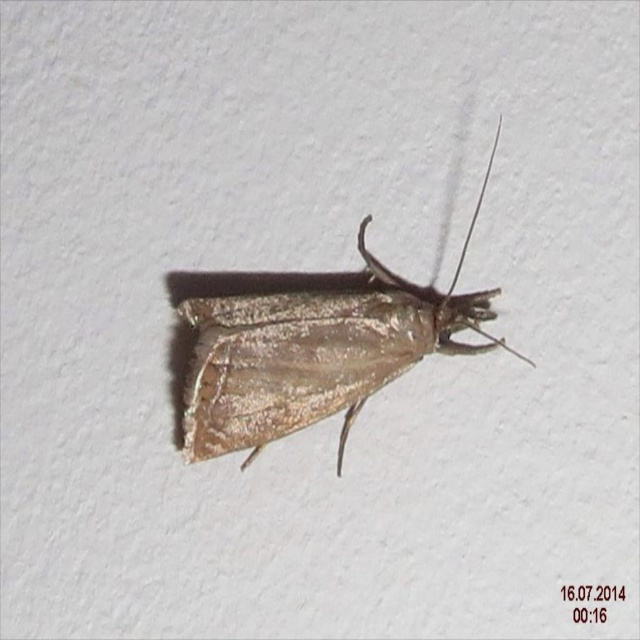Moths and butterflies: (175, 108, 540, 482)
